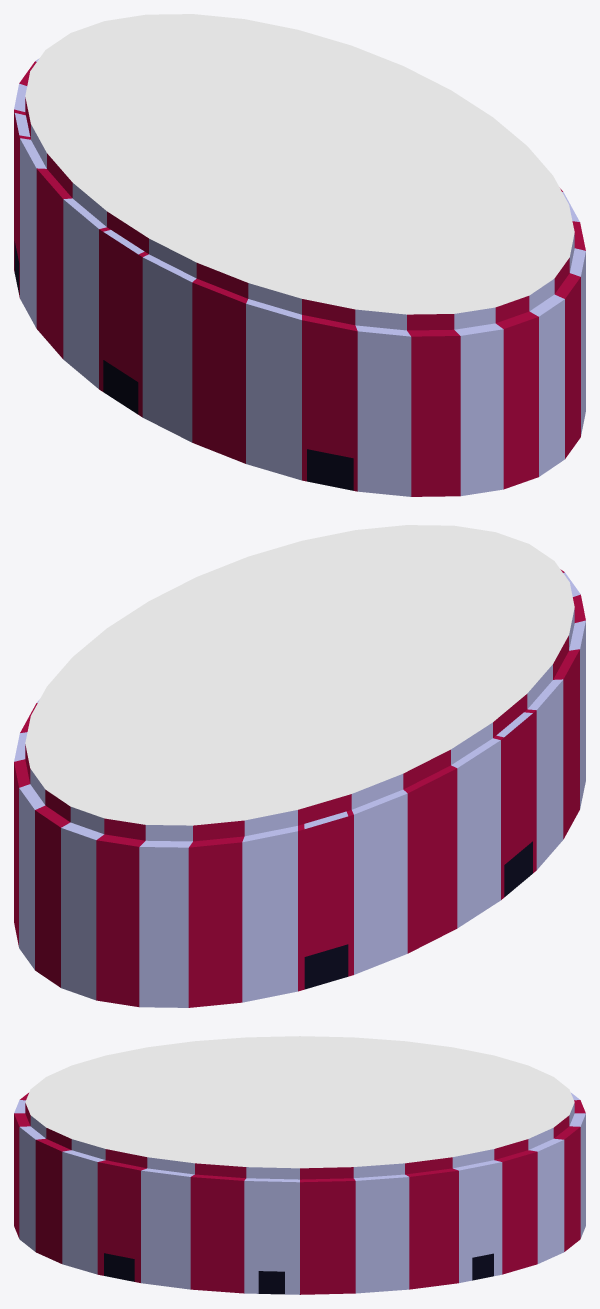
Rendered from stadium.glb.
The picture shows the model from 3 angles, top to bottom: view 1: azimuth 30°, elevation 25°; view 2: azimuth 150°, elevation 25°; view 3: azimuth 270°, elevation 25°; orthographic projection. The views are drawn at different scales.
Parts seen in each view (by area): view 1: Cylinder; view 2: Cylinder; view 3: Cylinder.
Boxes of the visible parts, bbox=[...] form: Cylinder: bbox=[14, 14, 585, 496]; Cylinder: bbox=[14, 525, 585, 1007]; Cylinder: bbox=[14, 1036, 585, 1294].
Bounding box in the file's own units: 5.24 × 2.2 × 9.21.
